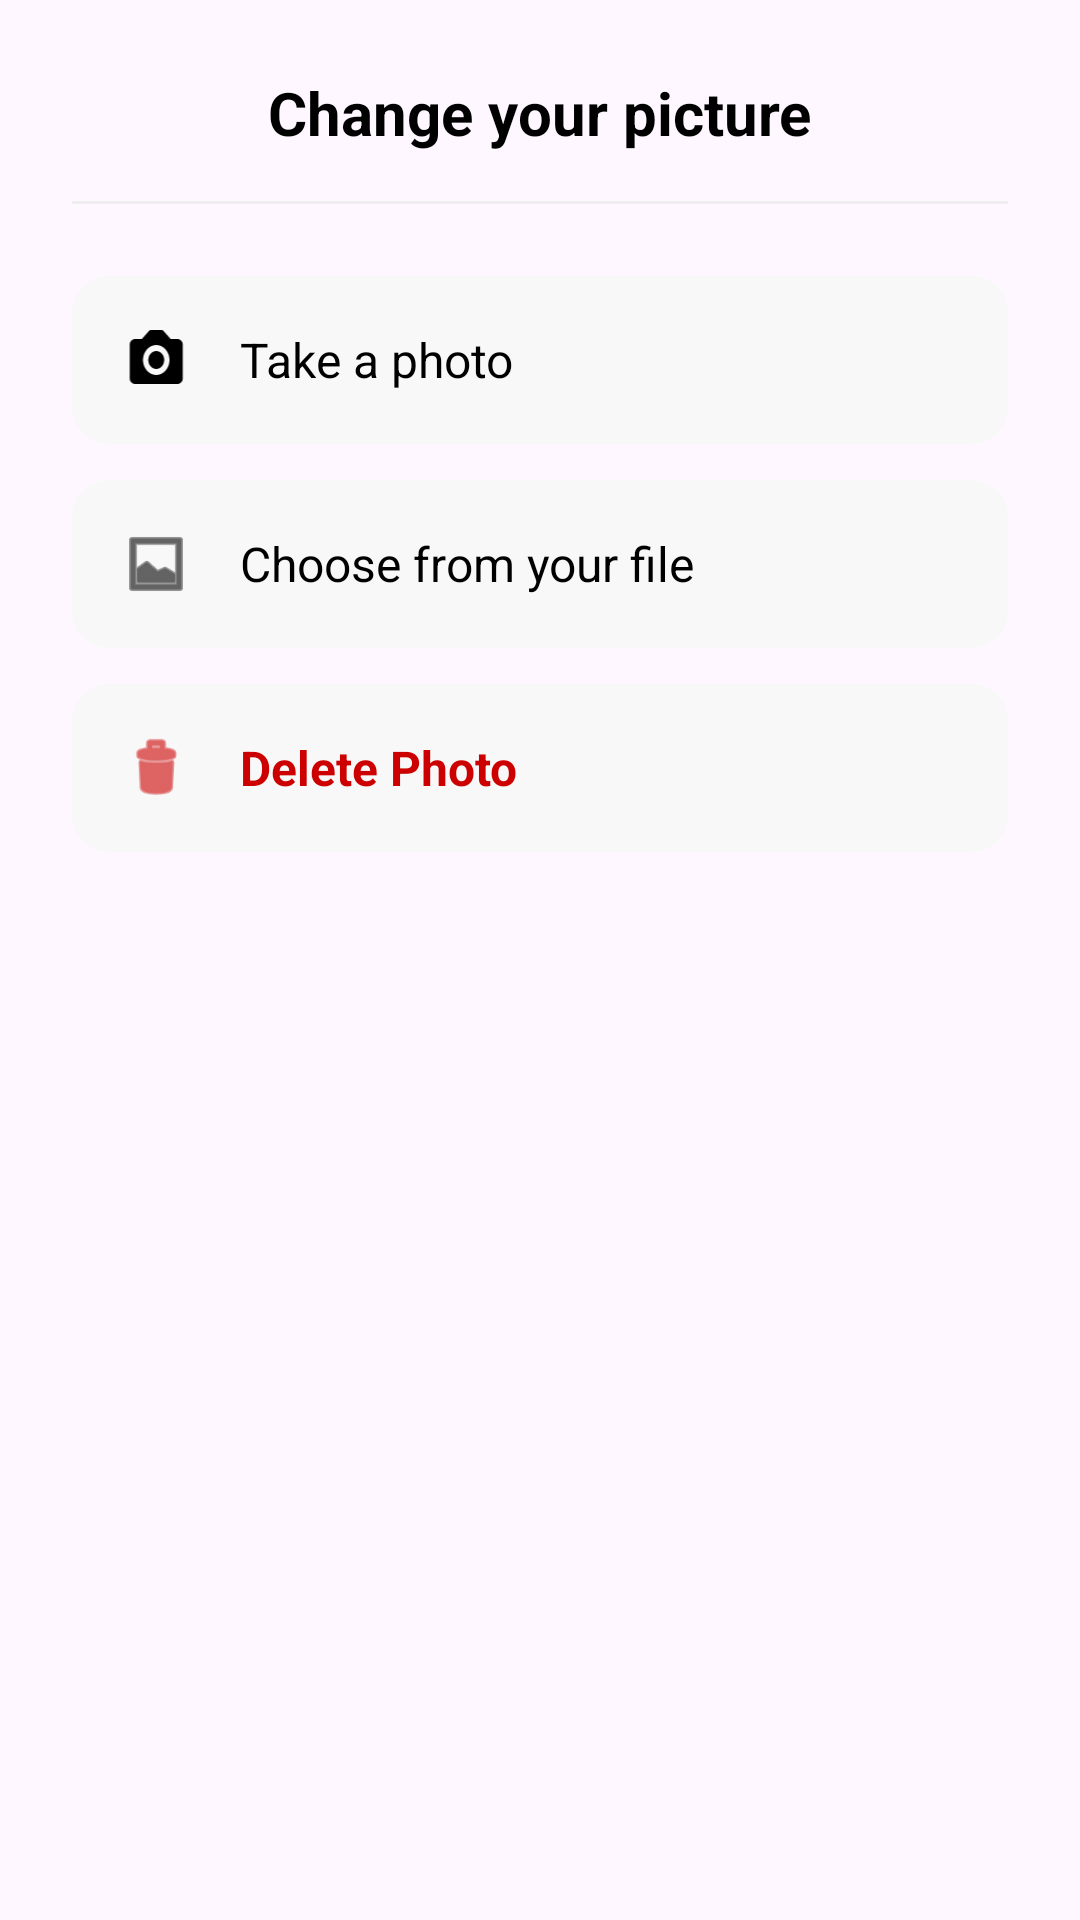

Where icons sit on this 1080×1920 app screen, as [x1,y1,x2,y2]:
camera: [129,330,184,384]
gallery: [129,537,183,591]
